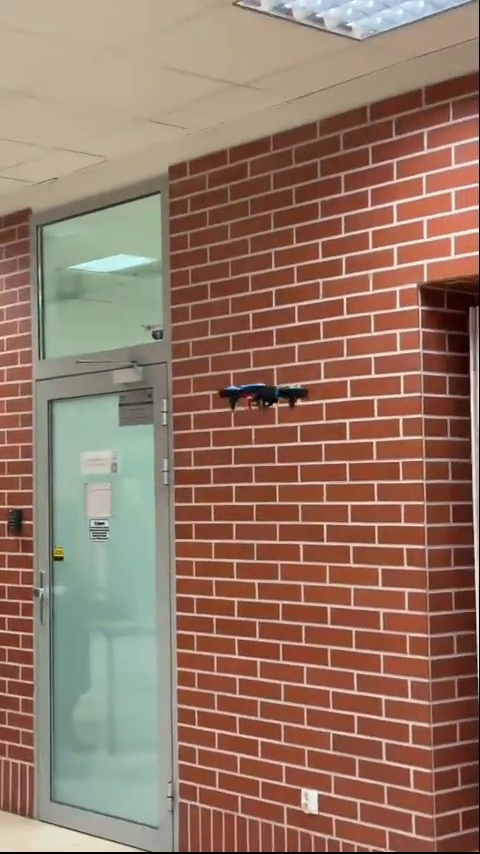drone: (221, 377, 308, 412)
